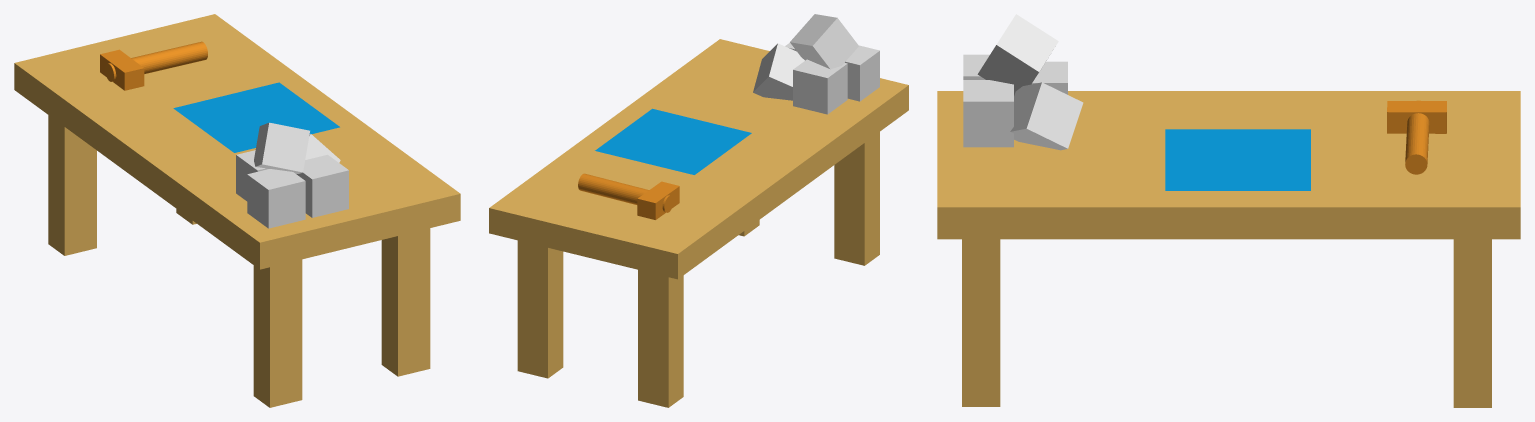
Rendered from Crafting_Table.fbx.
3 renders of one model, left to right at view 1: azimuth 30°, elevation 25°; view 2: azimuth 150°, elevation 25°; view 3: azimuth 270°, elevation 25°, orthographic. The views are drawn at different scales.
Parts seen in each view (by area): view 1: Table, Cubes, Crafting square, Hammer; view 2: Table, Cubes, Crafting square, Hammer; view 3: Table, Cubes, Crafting square, Hammer.
Part boxes in pixels (bbox=[...]): Table: bbox=[14, 14, 460, 407]; Cubes: bbox=[236, 122, 348, 228]; Crafting square: bbox=[173, 82, 339, 152]; Hammer: bbox=[100, 41, 207, 90]; Table: bbox=[489, 39, 908, 407]; Cubes: bbox=[753, 14, 879, 114]; Crafting square: bbox=[595, 108, 751, 174]; Hammer: bbox=[578, 173, 679, 219]; Table: bbox=[937, 91, 1520, 407]; Cubes: bbox=[963, 14, 1083, 150]; Crafting square: bbox=[1165, 129, 1310, 190]; Hammer: bbox=[1387, 100, 1446, 174].
Bounding box in the file's own units: 424 × 200 × 251.
